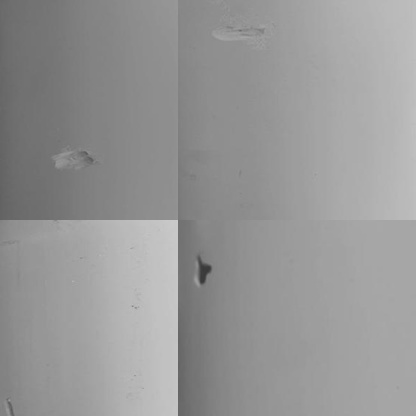kongdong: (194, 253, 217, 285)
sunshang: (207, 16, 272, 45), (46, 143, 93, 175)
